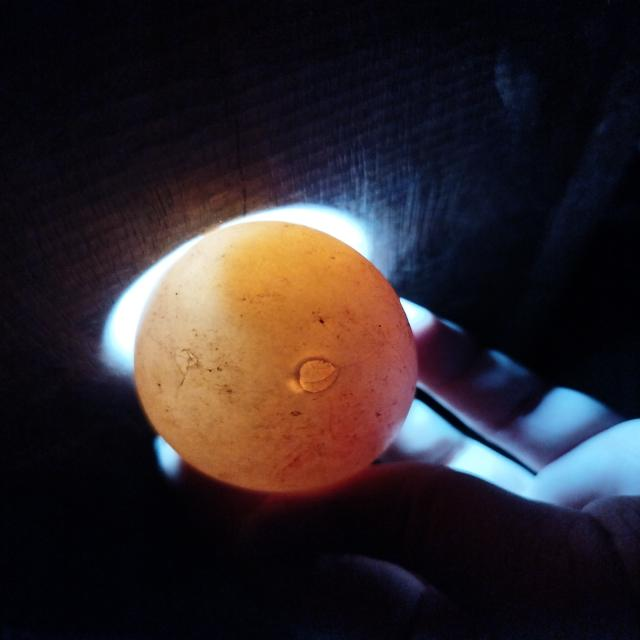Rachadura: (300, 360, 337, 393), (175, 349, 198, 384)
